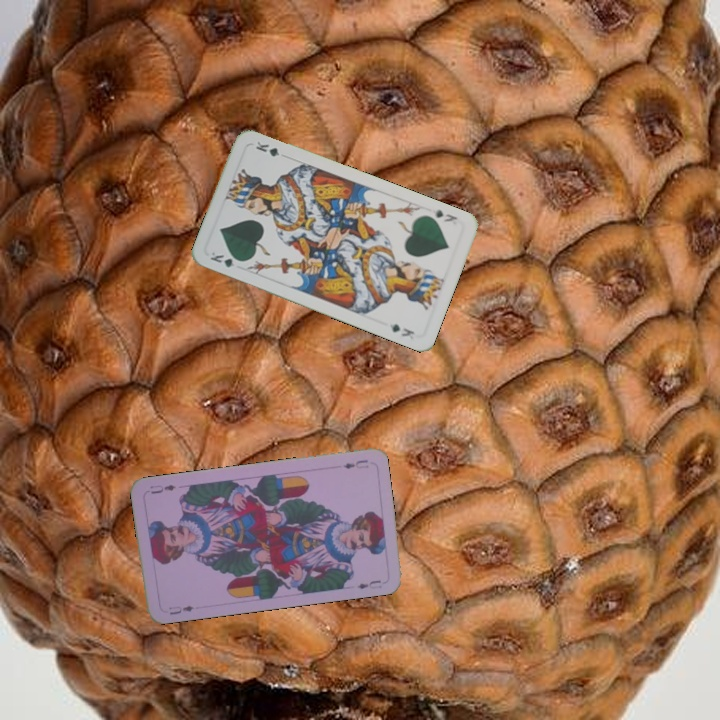EU: (165, 601, 196, 617), (339, 456, 371, 471)
GK: (206, 248, 246, 270), (428, 205, 460, 224)
